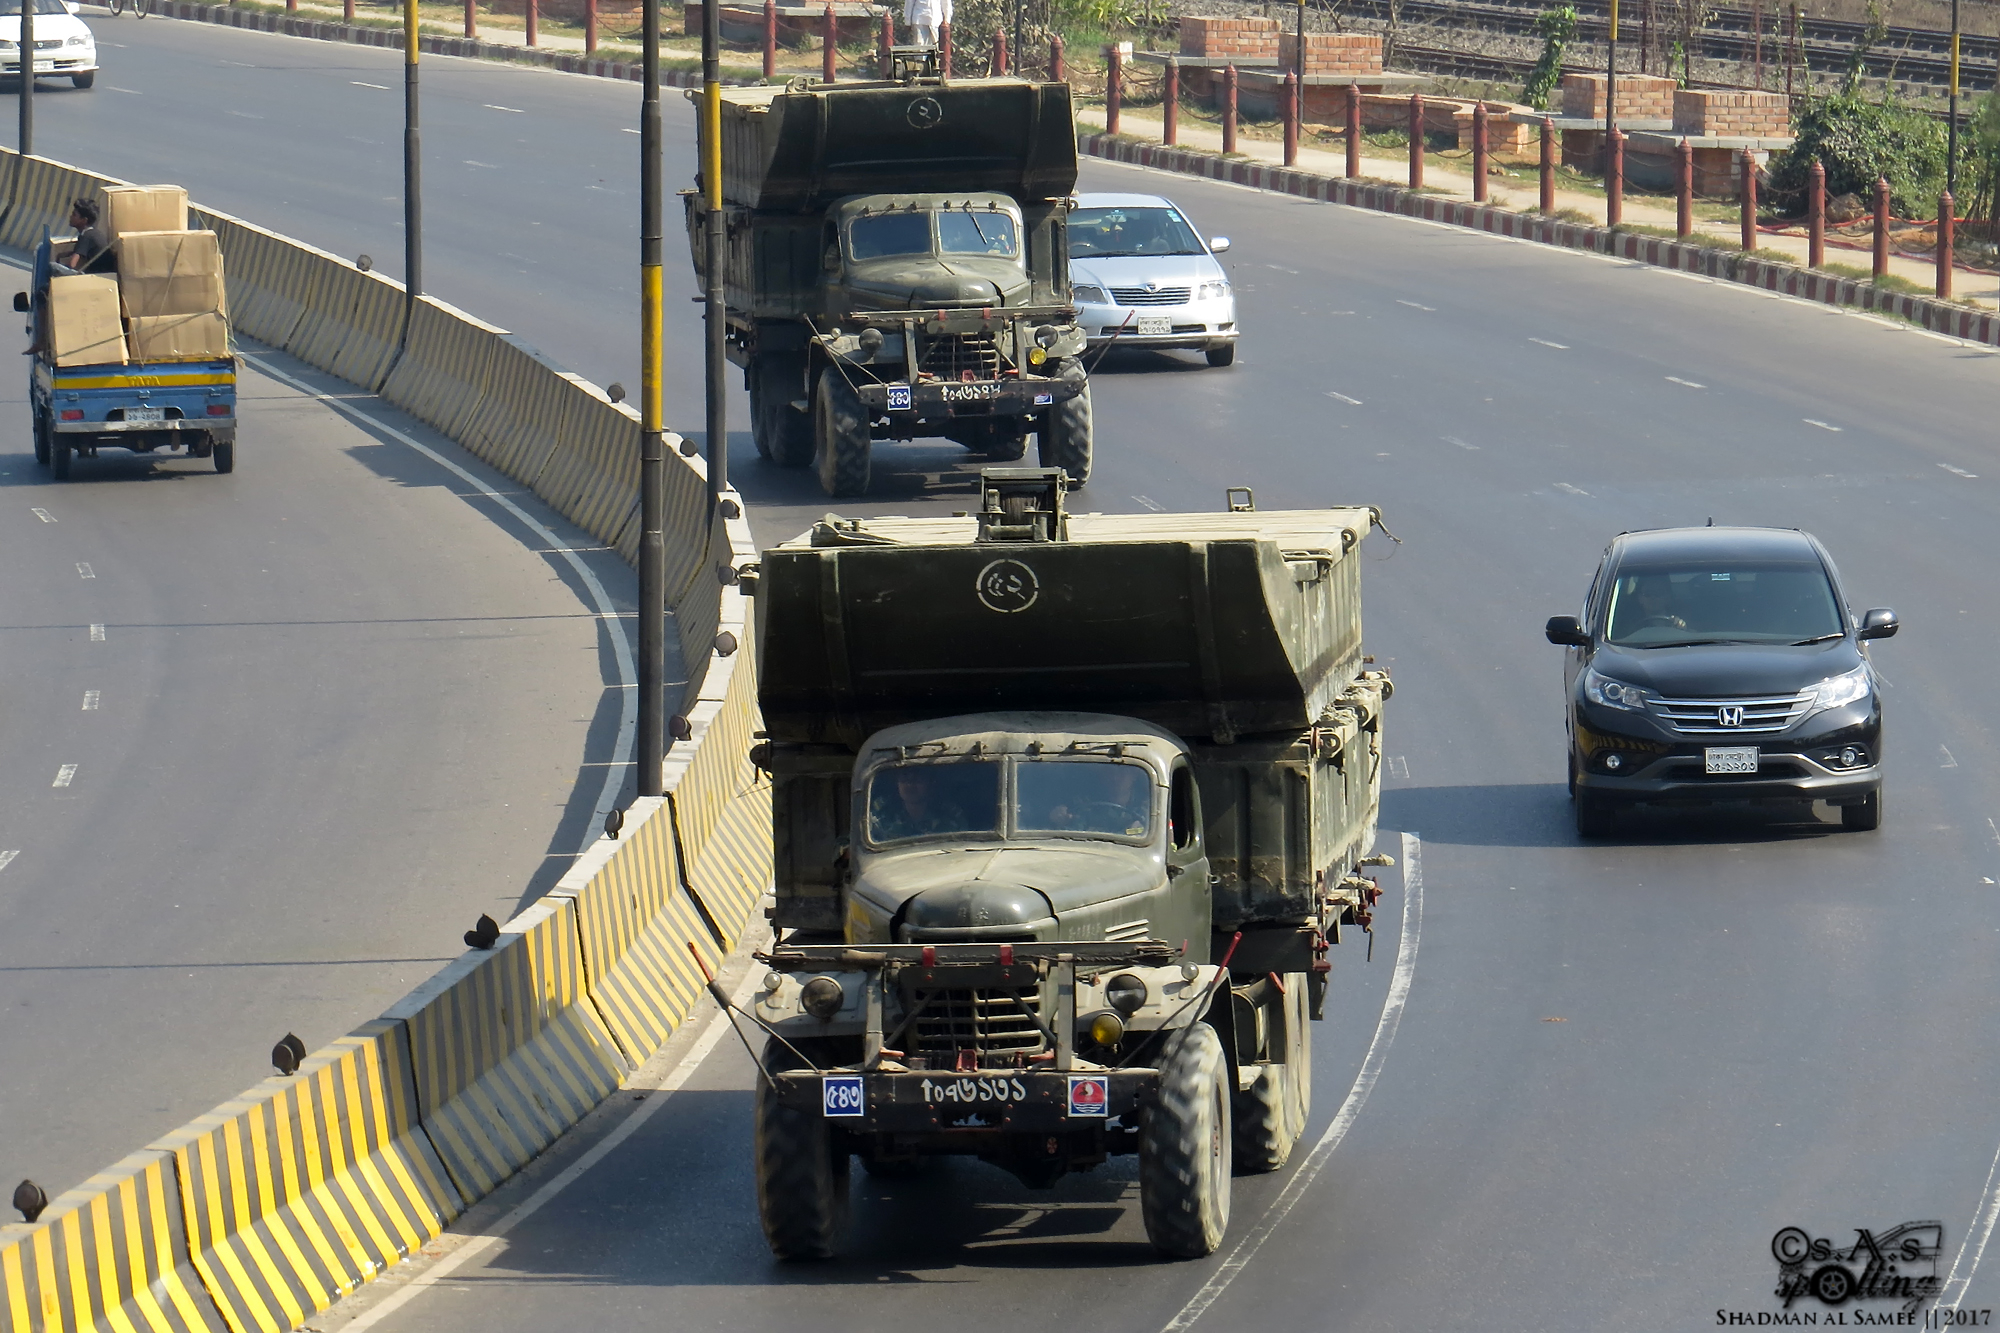army vehicle: (729, 469, 1384, 1253), (688, 80, 1094, 488)
car: (1068, 192, 1242, 367), (1, 6, 100, 89)
pickup: (13, 237, 239, 475)
suv: (1548, 527, 1900, 839)
